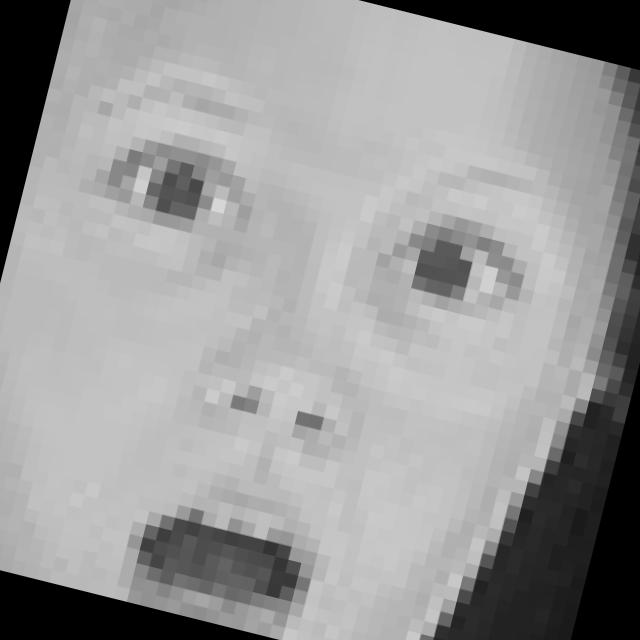surprise: (0, 59, 570, 640)
